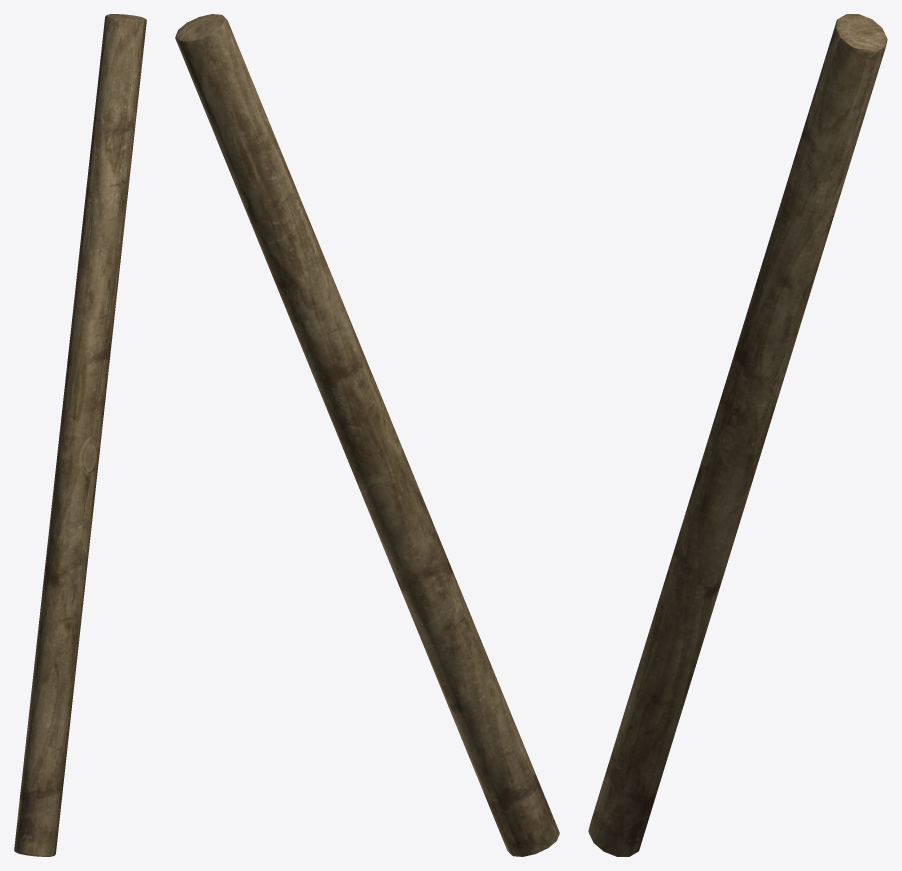
3 views of the same model, side by side, from view 1: azimuth 30°, elevation 25°; view 2: azimuth 150°, elevation 25°; view 3: azimuth 270°, elevation 25° (orthographic). The views are drawn at different scales.
Visible parts, largest first — view 1: Cylinder002_Material_0_0; view 2: Cylinder002_Material_0_0; view 3: Cylinder002_Material_0_0.
Part boxes in pixels (left/top/right/bottom): Cylinder002_Material_0_0: left=14, top=14, right=146, bottom=856; Cylinder002_Material_0_0: left=175, top=14, right=559, bottom=856; Cylinder002_Material_0_0: left=588, top=14, right=887, bottom=856.
Size of the model in its own units: 0.8604 by 2.68 by 0.7733.
Materials: 1 (1 with a texture image).
